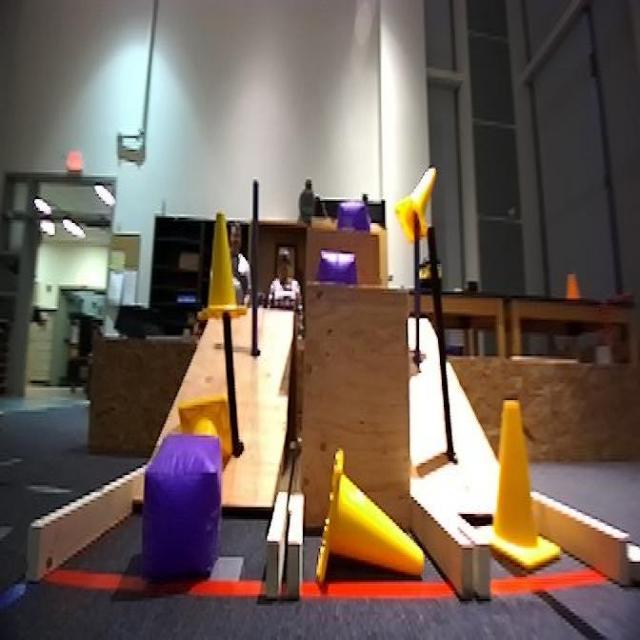frc_cone: (318, 448, 432, 572), (485, 392, 559, 580), (207, 225, 254, 326), (397, 160, 439, 243), (181, 395, 231, 453)
frc_cube: (136, 443, 222, 582), (332, 196, 368, 248), (318, 245, 356, 293)
